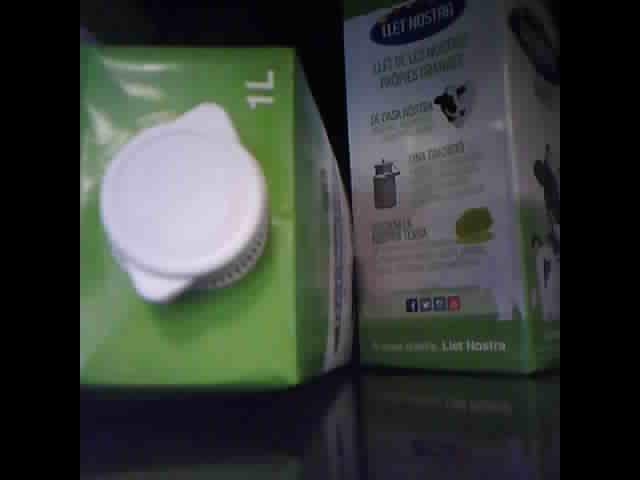leche: (81, 48, 349, 391), (344, 4, 556, 368)
